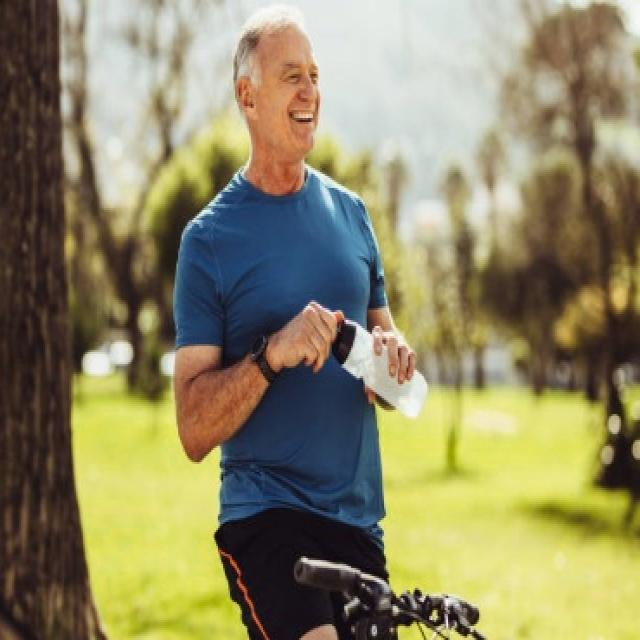adult: (168, 10, 448, 636)
